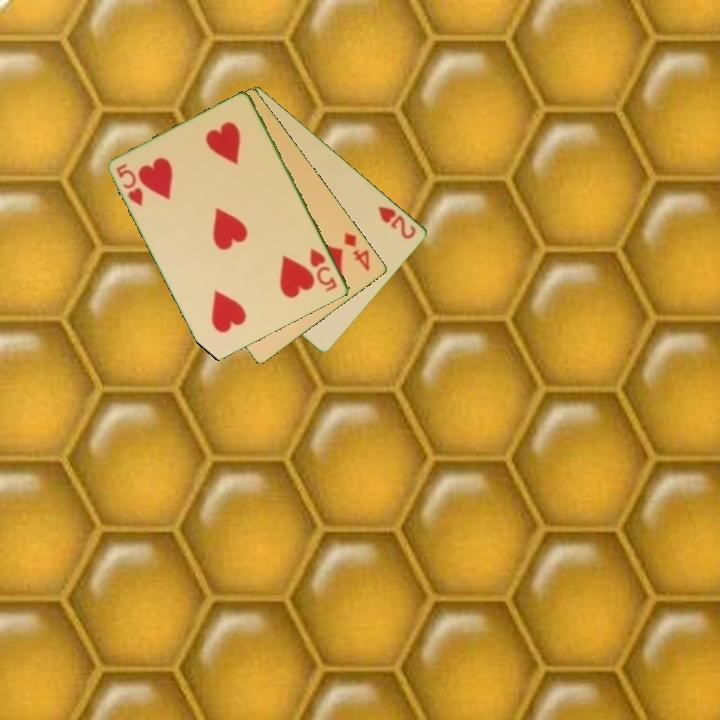2h: (375, 202, 419, 242)
4d: (341, 229, 373, 274)
5h: (113, 160, 147, 209), (307, 245, 340, 294)
